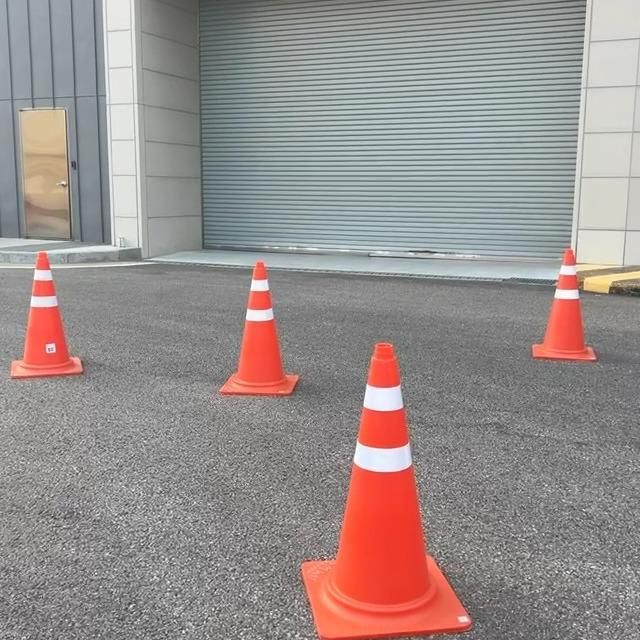fallen_object: (205, 343, 494, 640), (166, 229, 320, 425), (465, 216, 611, 387), (0, 225, 125, 386)
